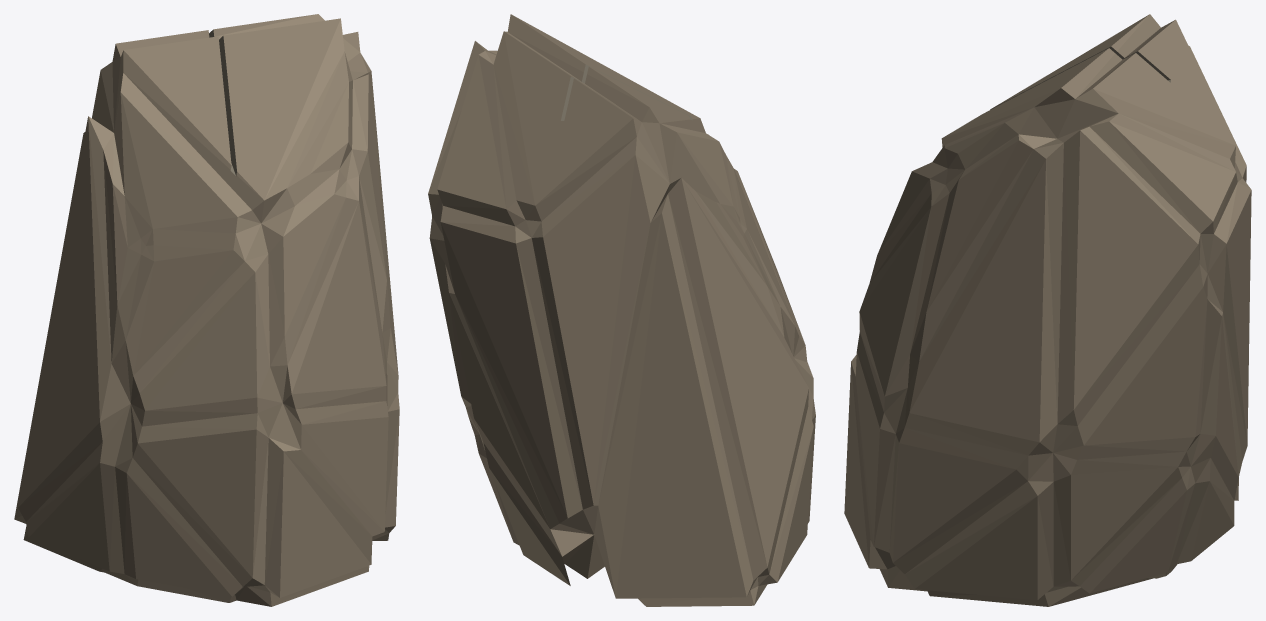
Rendered from Granit_V2_2_LOD0.fbx.
3 renders of one model, left to right at view 1: azimuth 30°, elevation 25°; view 2: azimuth 150°, elevation 25°; view 3: azimuth 270°, elevation 25°, orthographic. The views are drawn at different scales.
Visible parts, largest first — view 1: Granit_V2_2; view 2: Granit_V2_2; view 3: Granit_V2_2.
Part boxes in pixels (<box>): Granit_V2_2: <box>14,14,399,606</box>; Granit_V2_2: <box>428,14,815,606</box>; Granit_V2_2: <box>844,14,1251,606</box>.
Bounding box in the file's own units: 179 × 251 × 176.
